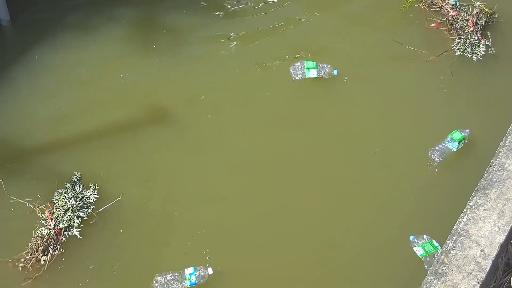plastic: (416, 128, 481, 167), (157, 261, 220, 286), (405, 232, 448, 267), (287, 62, 339, 79)
twig: (6, 165, 123, 267), (421, 0, 506, 75)
